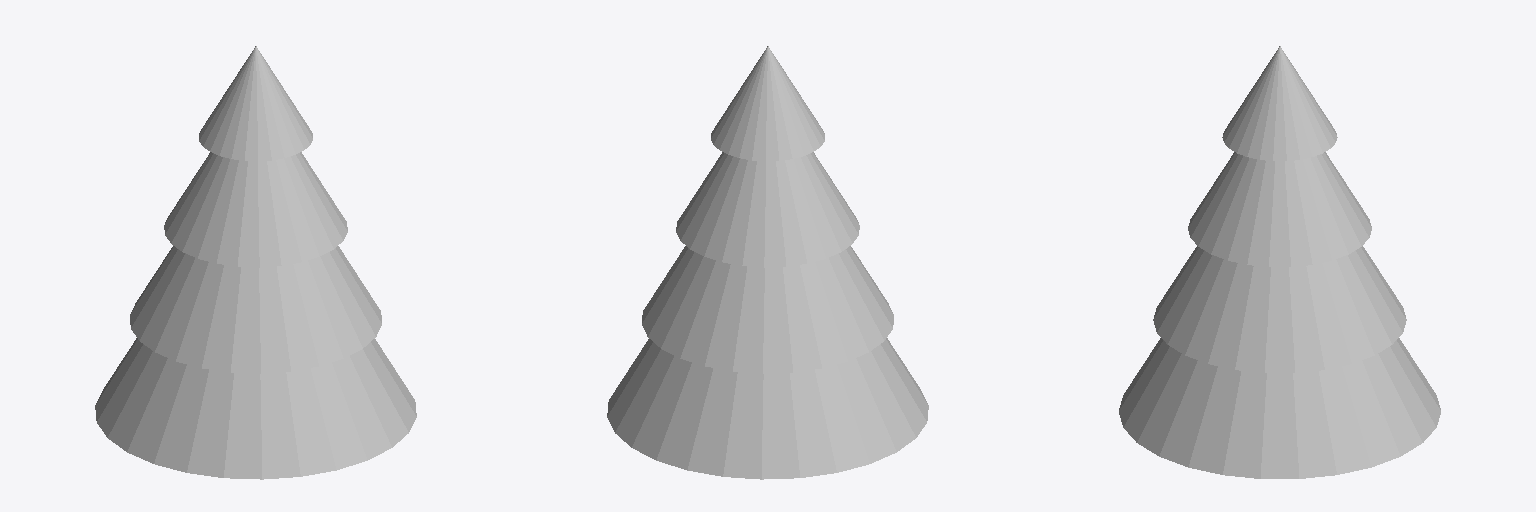
Rendered from Prop_Decorative_Tree_Pine_1.obj.
3 views of the same model, side by side, from view 1: azimuth 30°, elevation 25°; view 2: azimuth 150°, elevation 25°; view 3: azimuth 270°, elevation 25° (orthographic).
Visible parts, largest first — view 1: object2; view 2: object2; view 3: object2.
Part boxes in pixels (left/top/right/bottom): object2: left=95, top=46, right=416, bottom=479; object2: left=607, top=46, right=928, bottom=479; object2: left=1119, top=46, right=1440, bottom=478.
Size of the model in its own units: 0.7942 by 1.15 by 0.8.